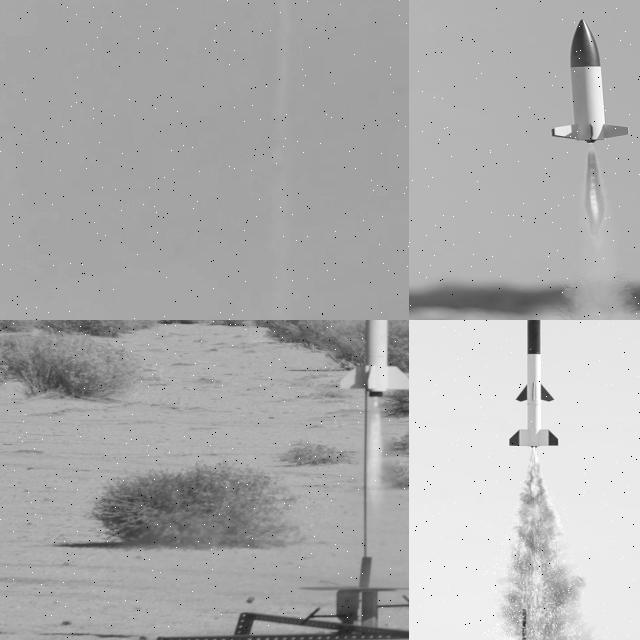Rocket: (550, 18, 632, 145), (508, 320, 560, 446), (336, 320, 409, 398)
